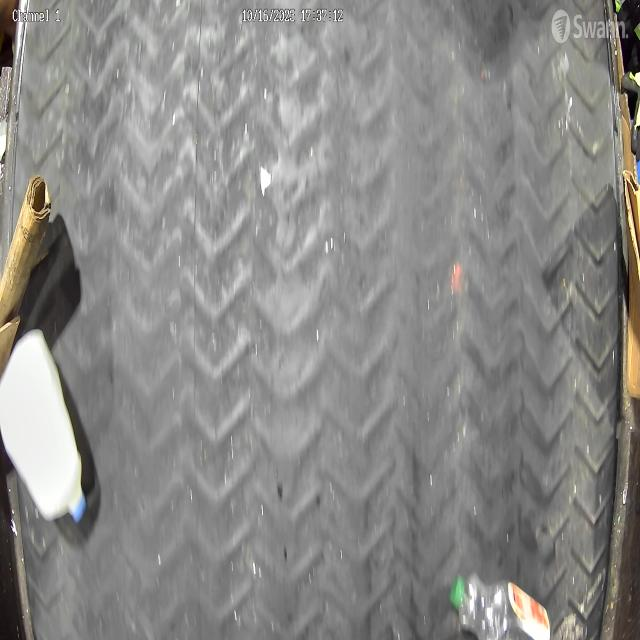milk_jug: (0, 334, 88, 521)
plastic_bottle: (447, 576, 548, 640)
